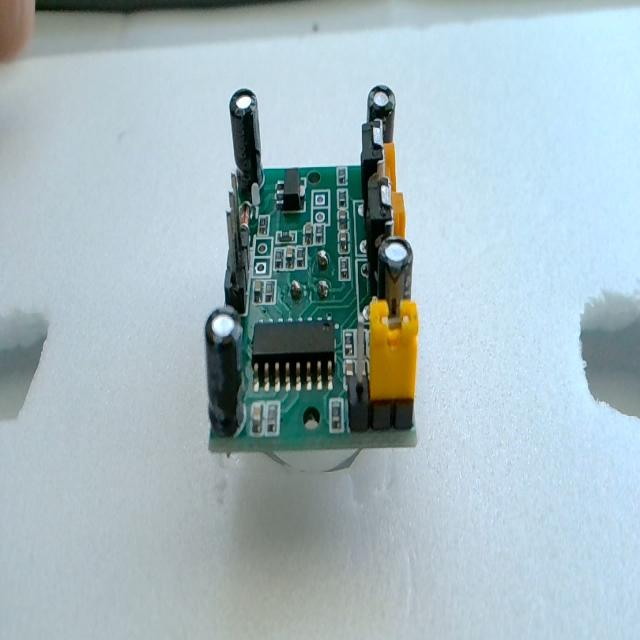Electrolytic capacitor: (203, 305, 246, 437), (229, 86, 264, 196), (377, 236, 414, 314), (367, 84, 396, 142)
IC: (251, 319, 335, 388)
pinheader: (224, 180, 251, 310)
